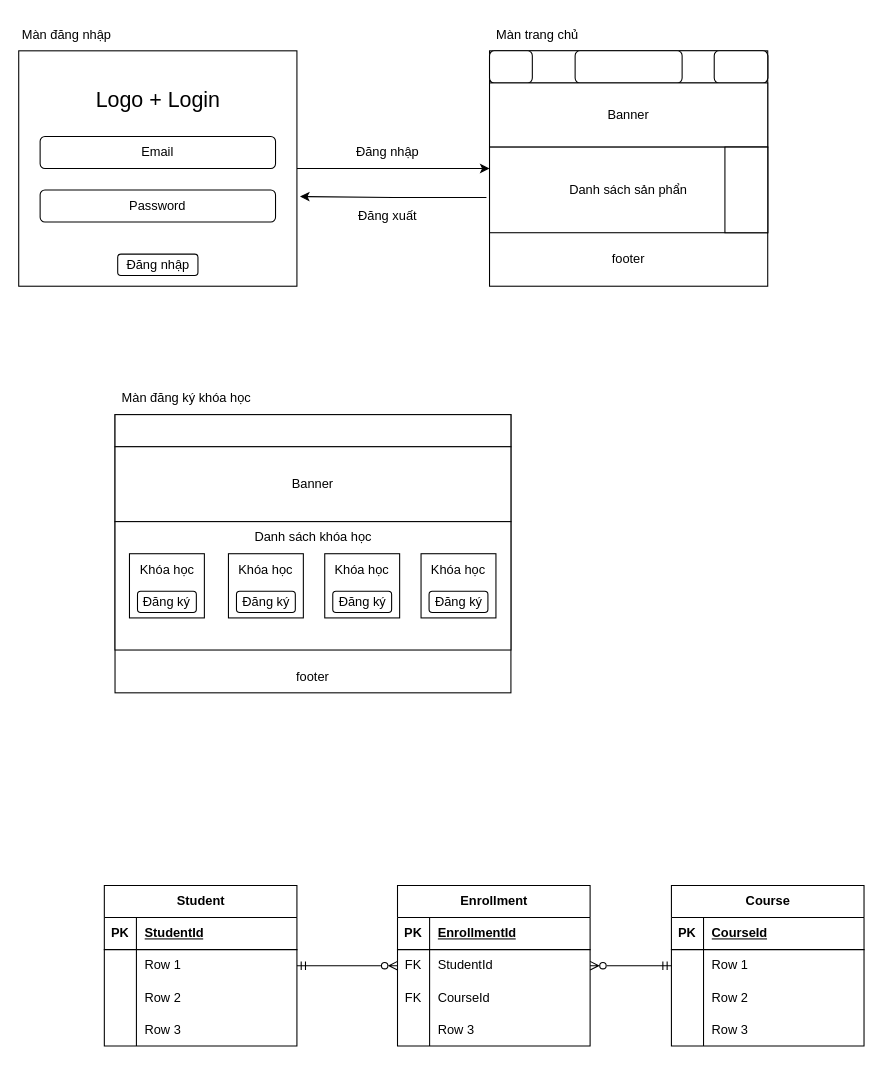
Some shapes in this 883 by 1065 pixel diagram are drawn without their labels. Each missing label, with the centre of its shape:
Header: (x=312, y=430)
logo: (x=510, y=66)
nav bar: (x=628, y=66)
Người dùng: (x=740, y=66)
quảng cáo: (x=746, y=189)
